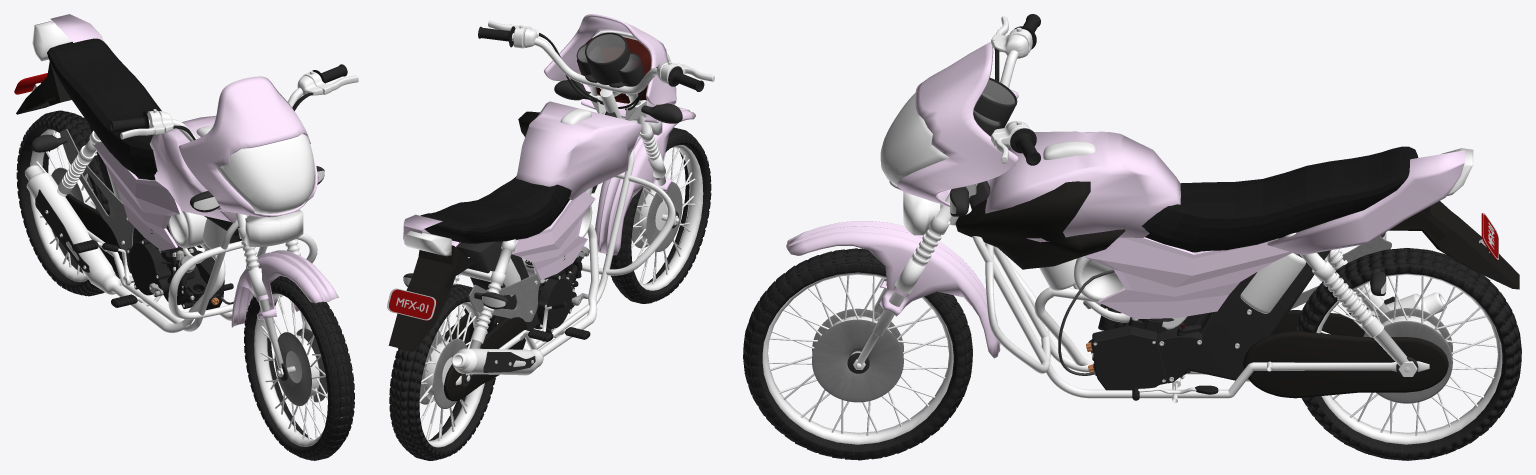
The model's file is motorcycle.glb.
The picture shows the model from 3 angles, left to right: view 1: azimuth 30°, elevation 25°; view 2: azimuth 150°, elevation 25°; view 3: azimuth 270°, elevation 25°; orthographic projection. The views are drawn at different scales.
Parts seen in each view (by area): view 1: Cylinder.024, Cube.024, Cube.009, Cube.026, Plane.002, Cylinder.009, Heavy Bike, Cube.023, Cylinder.003, Circle.002, Cube.001, Circle.001 (+19 smaller); view 2: Plane.002, Cube.001, Cylinder.024, Cube.009, Cube.022, Cube.024, Cube.023, Circle.002, Cylinder.003, Cylinder.009, Heavy Bike, Cube.006 (+23 smaller); view 3: Cylinder.024, Plane.002, Cube.009, Cube.001, Cube.006, Cube.023, Cube.024, Circle.002, Heavy Bike, Cube.005, Cylinder.003, Cube.012 (+16 smaller).
Part boxes in pixels (x1,y1,x2,y2): Cylinder.024: (244,276,354,460); Cube.024: (179,76,318,217); Cube.009: (47,38,161,180); Cube.026: (216,134,314,213); Plane.002: (16,110,119,296); Cylinder.009: (24,165,225,332); Heavy Bike: (45,210,247,309); Cube.023: (92,141,182,250); Cylinder.003: (87,215,317,331); Circle.002: (231,250,338,327); Cube.001: (150,115,251,222); Circle.001: (254,293,342,446); Plane.002: (389,284,496,460); Cube.001: (516,101,642,200); Cylinder.024: (606,127,711,303); Cube.009: (420,176,571,243); Cube.022: (388,245,474,351); Cube.024: (544,14,676,123); Cube.023: (512,191,595,279); Circle.002: (595,107,695,255); Cylinder.003: (455,149,675,385); Cylinder.009: (451,223,599,375); Heavy Bike: (494,246,589,365); Cube.006: (442,314,527,401); Cylinder.024: (743,248,972,460); Plane.002: (1294,248,1521,460); Cube.009: (1142,146,1418,252); Cube.001: (985,131,1180,242); Cube.006: (1243,310,1448,398); Cube.023: (1084,237,1292,319); Cube.024: (889,42,1018,206); Circle.002: (786,221,1000,358); Heavy Bike: (1058,269,1251,390); Cube.005: (955,181,1125,269); Cylinder.003: (965,203,1429,398); Cube.012: (1267,150,1464,255).
Bounding box in the file's own units: 1.03 × 1.4 × 2.41.
Materials: 36 (8 with a texture image).
